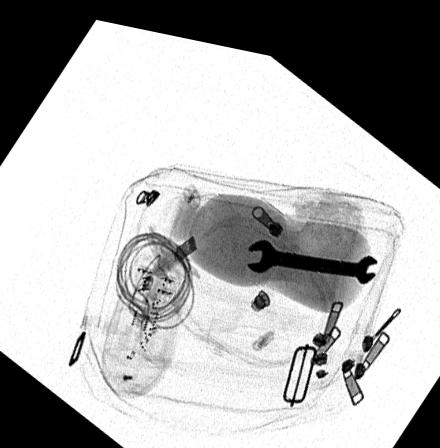Wrench: (243, 226, 381, 271)
